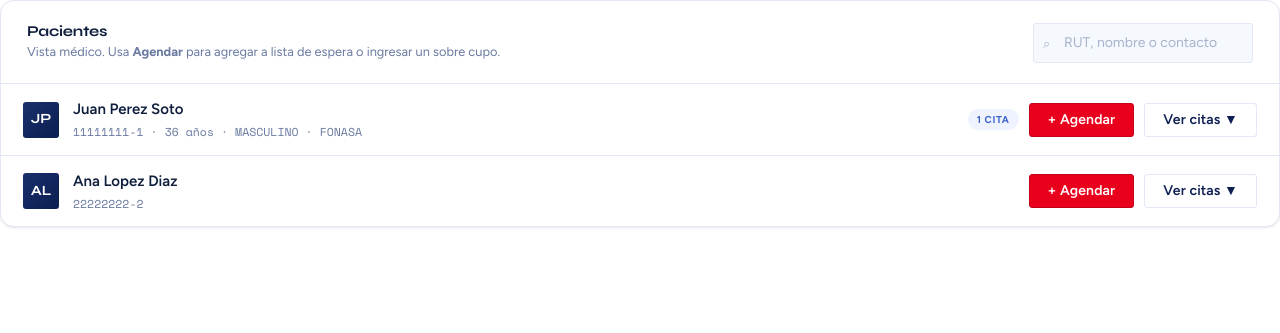
Test: DoctorPage › expande y colapsa la lista de citas de un paciente
Expected: the text "Cardiología" is not shown
What coordinates should you click on to do the following:
click the button "Ver citas ▼" in the row of "· FONASA"
I would click on:
 (1201, 120)
Its box is [1144,103,1257,137].
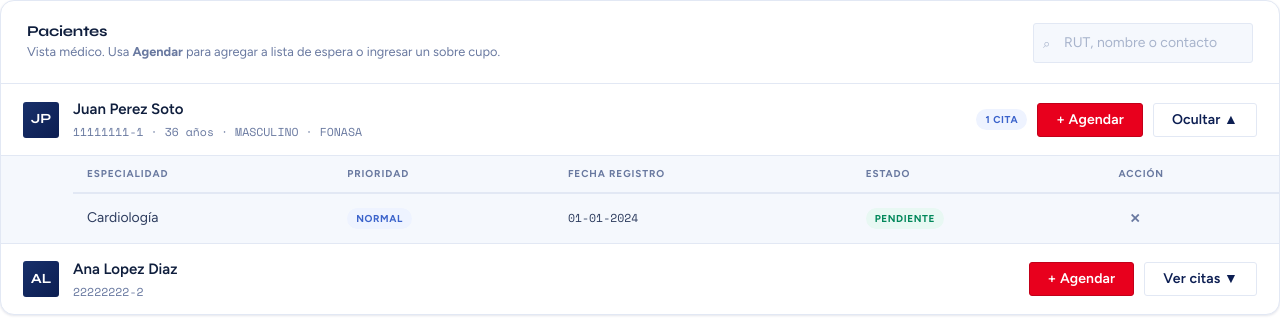
Now the text "Cardiología" is shown, box [73,193,333,243]
What coordinates should you click on to do the following:
click the button "Ocultar ▲"
I would click on:
 (1205, 120)
Its box is [1153,103,1257,137].
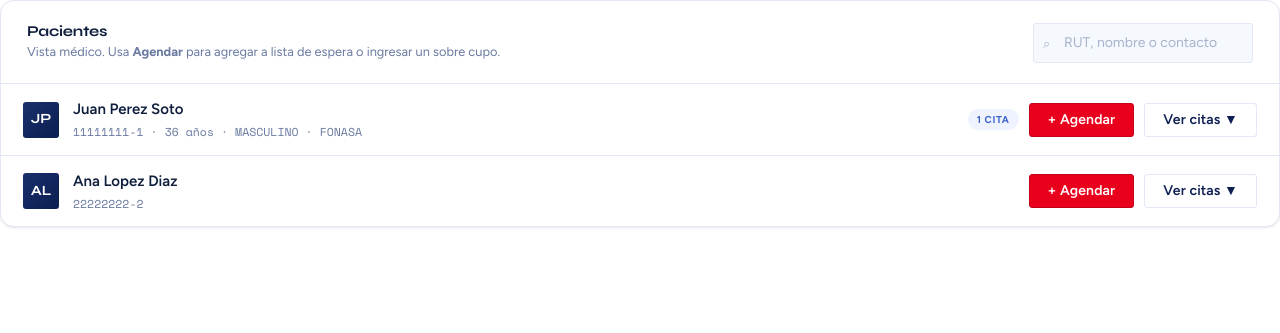
Now the text "Cardiología" is gone
